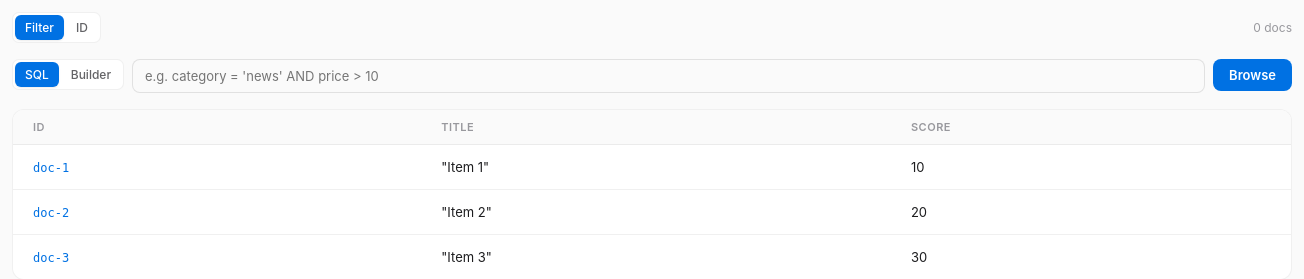
Test case: BrowseTab › switches to ID mode and renders the ID input
Expected: the button "doc-1" is shown, top-left (33, 160), bottom-right (69, 174)
Click the button "ID" at [82, 28], box top-left (66, 15), bottom-right (98, 40)
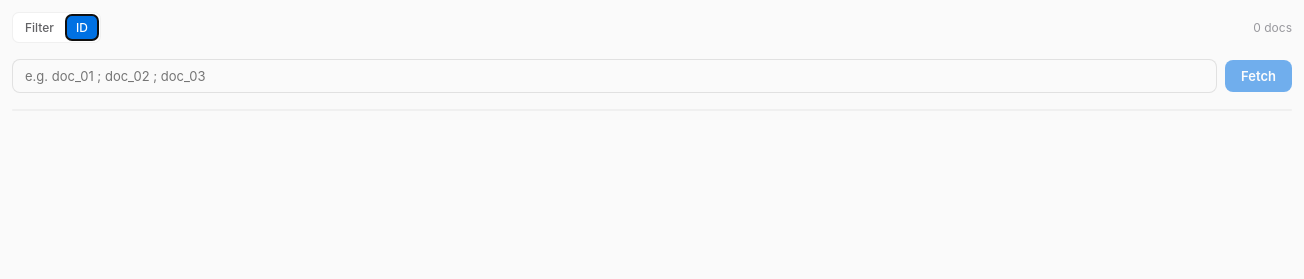
Expected: the field with placeholder "e.g. doc_01 ; doc_02 ; doc_03" is shown, top-left (12, 59), bottom-right (1217, 93)
